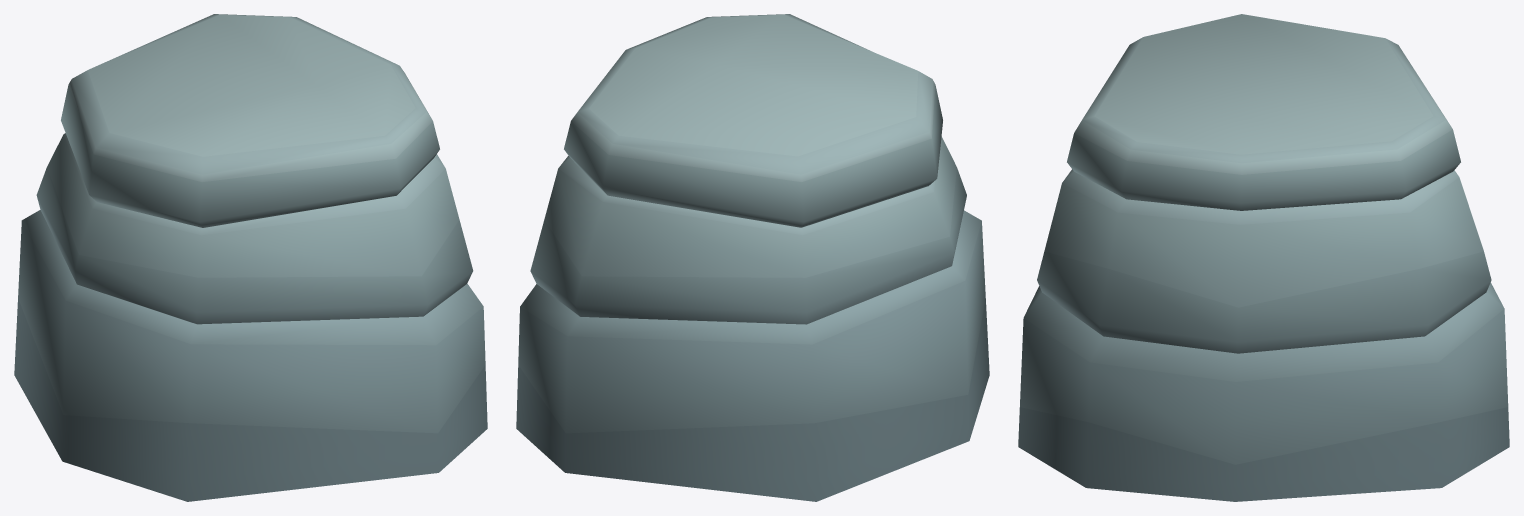
The model's file is platform_kit027.fbx.
3 renders of one model, left to right at view 1: azimuth 30°, elevation 25°; view 2: azimuth 150°, elevation 25°; view 3: azimuth 270°, elevation 25°, orthographic. The views are drawn at different scales.
Parts seen in each view (by area): view 1: platform_kit027; view 2: platform_kit027; view 3: platform_kit027.
Boxes of the visible parts, left/top/right/bottom form: platform_kit027: left=14, top=14, right=487, bottom=501; platform_kit027: left=516, top=14, right=989, bottom=501; platform_kit027: left=1018, top=14, right=1509, bottom=501.
Bounding box in the file's own units: 253 × 200 × 276.
Materials: 1 (1 with a texture image).
